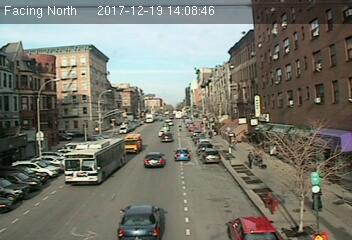bus: (63, 136, 127, 188)
car: (114, 204, 164, 240), (227, 215, 285, 240), (143, 151, 165, 166), (201, 149, 221, 164), (173, 148, 192, 162), (161, 131, 173, 142)
truck: (123, 133, 142, 154)
